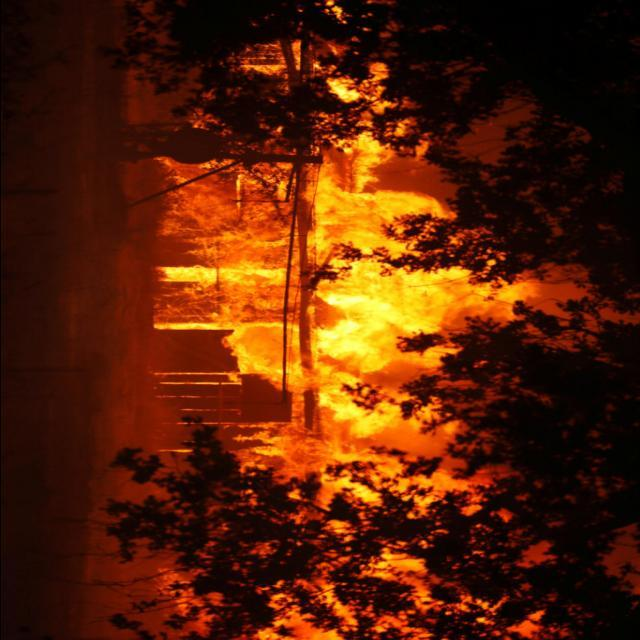Fire: (157, 55, 542, 640)
